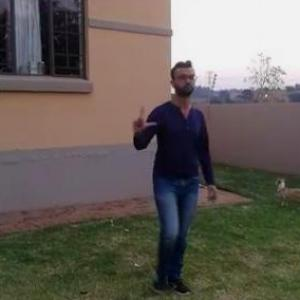land_hand: (127, 102, 159, 138)
